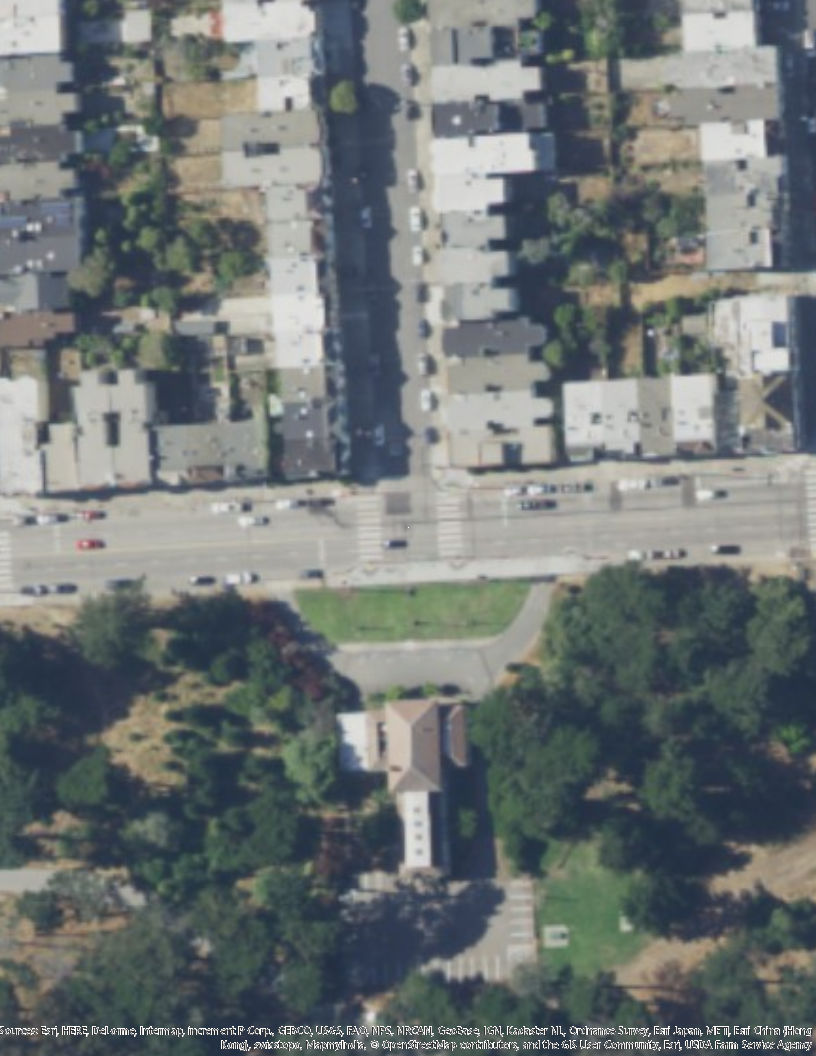zebracross: (434, 484, 464, 556), (356, 491, 382, 567)
